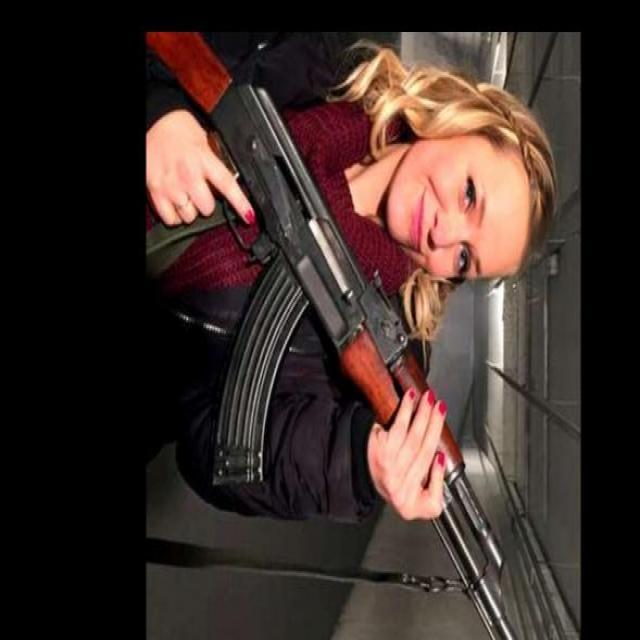weapon: (144, 31, 517, 640)
